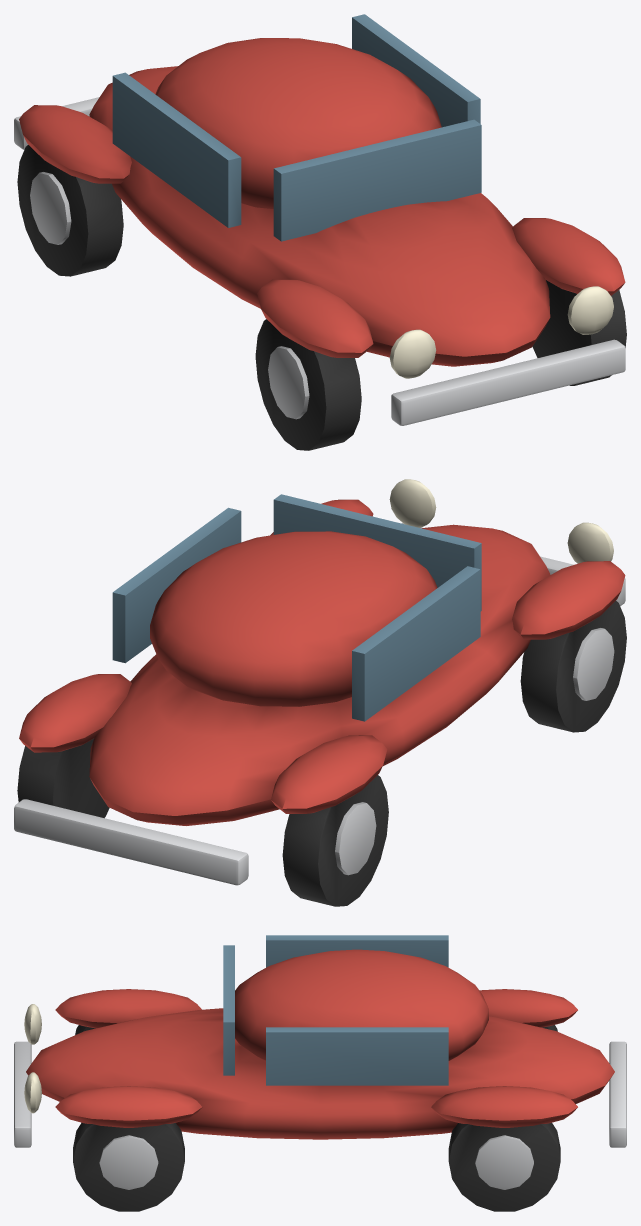
The model's file is car_red.glb.
3 views of the same model, one above another, from view 1: azimuth 30°, elevation 25°; view 2: azimuth 150°, elevation 25°; view 3: azimuth 270°, elevation 25° (orthographic). The views are drawn at different scales.
Parts seen in each view (by area): view 1: boat_carred, boat_window, boat_tyre, boat_chrome, boat_lampglass; view 2: boat_carred, boat_window, boat_tyre, boat_chrome, boat_lampglass; view 3: boat_carred, boat_window, boat_tyre, boat_chrome, boat_lampglass.
Boxes of the visible parts, x1,y1,x2,y2 form: boat_carred: (19, 38, 625, 366); boat_window: (112, 14, 481, 241); boat_tyre: (17, 145, 626, 450); boat_chrome: (14, 97, 625, 425); boat_lampglass: (389, 286, 613, 378); boat_carred: (19, 499, 625, 825); boat_window: (112, 494, 481, 721); boat_tyre: (17, 601, 626, 906); boat_chrome: (14, 523, 625, 885); boat_lampglass: (389, 479, 613, 563); boat_carred: (26, 949, 614, 1139); boat_window: (223, 935, 448, 1085); boat_tyre: (73, 1025, 560, 1211); boat_chrome: (14, 1041, 626, 1189); boat_lampglass: (24, 1004, 41, 1113).
Size of the model in its own units: 2 by 1.38 by 4.16.
